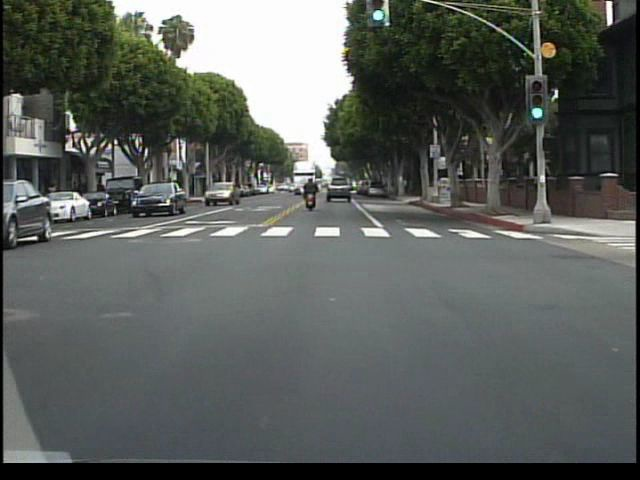person: (301, 175, 320, 215)
